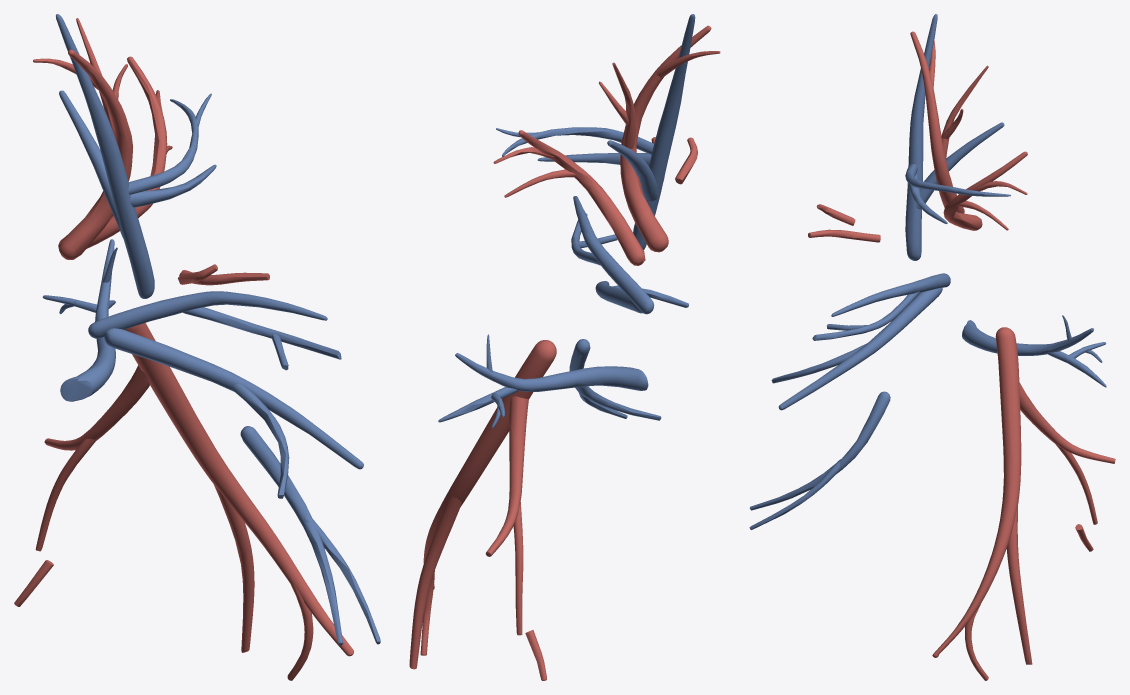
Rendered from thorax-10.glb.
3 views of the same model, side by side, from view 1: azimuth 30°, elevation 25°; view 2: azimuth 150°, elevation 25°; view 3: azimuth 270°, elevation 25° (orthographic). The views are drawn at different scales.
Parts seen in each view (by area): view 1: FJ2921, FJ2936, FJ2937, FJ2930, FJ2915, FJ2934, FJ2939, FJ2922, FJ2911, FJ2919, FJ2931, FJ2928 (+7 smaller); view 2: FJ2921, FJ2915, FJ2939, FJ2936, FJ2911, FJ2919, FJ2922, FJ2930, FJ2928, FJ2934, FJ2920, FJ2927 (+5 smaller); view 3: FJ2921, FJ2936, FJ2937, FJ2915, FJ2934, FJ2939, FJ2922, FJ2919, FJ2911, FJ2930, FJ2927, FJ2931 (+5 smaller).
Part boxes in pixels (bbox=[...]): FJ2921: bbox=[124, 323, 353, 656]; FJ2936: bbox=[56, 14, 154, 298]; FJ2937: bbox=[104, 328, 363, 469]; FJ2930: bbox=[88, 291, 327, 338]; FJ2915: bbox=[59, 49, 133, 259]; FJ2934: bbox=[240, 426, 343, 645]; FJ2939: bbox=[60, 239, 115, 401]; FJ2922: bbox=[214, 485, 254, 652]; FJ2911: bbox=[58, 56, 167, 248]; FJ2919: bbox=[44, 365, 149, 450]; FJ2931: bbox=[183, 307, 341, 359]; FJ2928: bbox=[128, 99, 198, 194]; FJ2921: bbox=[423, 340, 556, 589]; FJ2915: bbox=[620, 25, 711, 252]; FJ2939: bbox=[455, 353, 648, 391]; FJ2936: bbox=[633, 14, 695, 249]; FJ2911: bbox=[518, 130, 645, 265]; FJ2919: bbox=[485, 396, 528, 556]; FJ2922: bbox=[409, 496, 461, 669]; FJ2930: bbox=[573, 196, 654, 314]; FJ2928: bbox=[502, 127, 653, 156]; FJ2934: bbox=[569, 339, 661, 420]; FJ2920: bbox=[513, 502, 523, 635]; FJ2927: bbox=[607, 140, 657, 201]; FJ2921: bbox=[932, 327, 1021, 657]; FJ2936: bbox=[905, 14, 937, 260]; FJ2937: bbox=[778, 287, 942, 410]; FJ2915: bbox=[910, 31, 964, 213]; FJ2934: bbox=[749, 391, 890, 510]; FJ2939: bbox=[962, 320, 1093, 355]; FJ2922: bbox=[1006, 506, 1032, 664]; FJ2919: bbox=[1019, 382, 1115, 463]; FJ2911: bbox=[943, 151, 1027, 230]; FJ2930: bbox=[831, 273, 950, 316]; FJ2927: bbox=[916, 122, 1004, 209]; FJ2931: bbox=[812, 291, 919, 340].
Bounding box in the file's own units: 0.1042 × 0.2328 × 0.1359.
